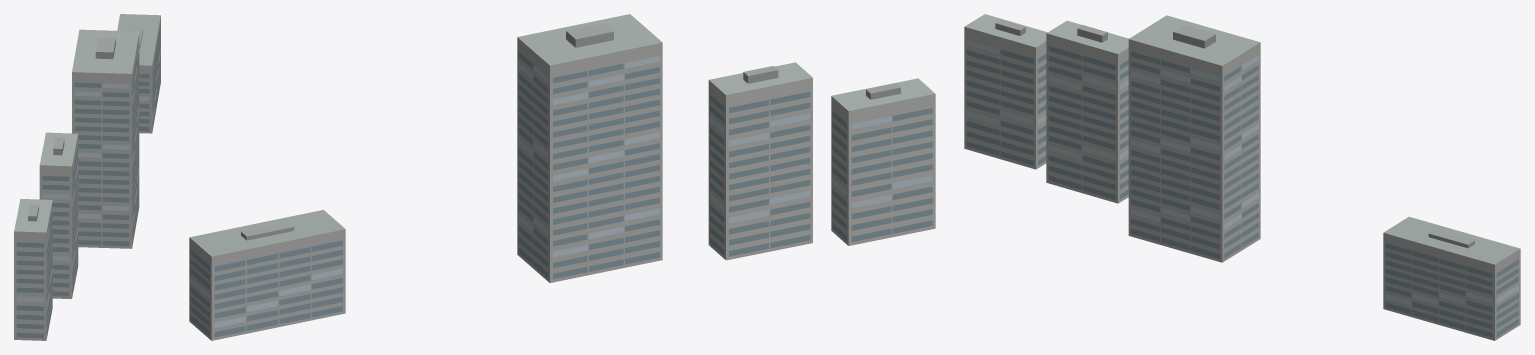
Rendered from apt-a13078701.glb.
3 views of the same model, side by side, from view 1: azimuth 30°, elevation 25°; view 2: azimuth 150°, elevation 25°; view 3: azimuth 270°, elevation 25° (orthographic). The views are drawn at different scales.
Visible parts, largest first — view 1: apt-a13078701; view 2: apt-a13078701; view 3: apt-a13078701.
Boxes of the visible parts, x1,y1,x2,y2 form: apt-a13078701: (14,14,160,340); apt-a13078701: (189,14,935,340); apt-a13078701: (964,14,1520,340).
Bounding box in the file's own units: 138 × 64 × 158.
